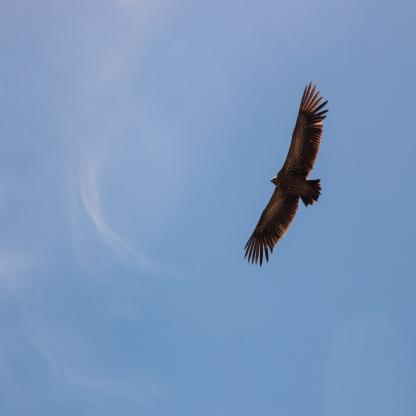bird: (244, 81, 330, 264)
